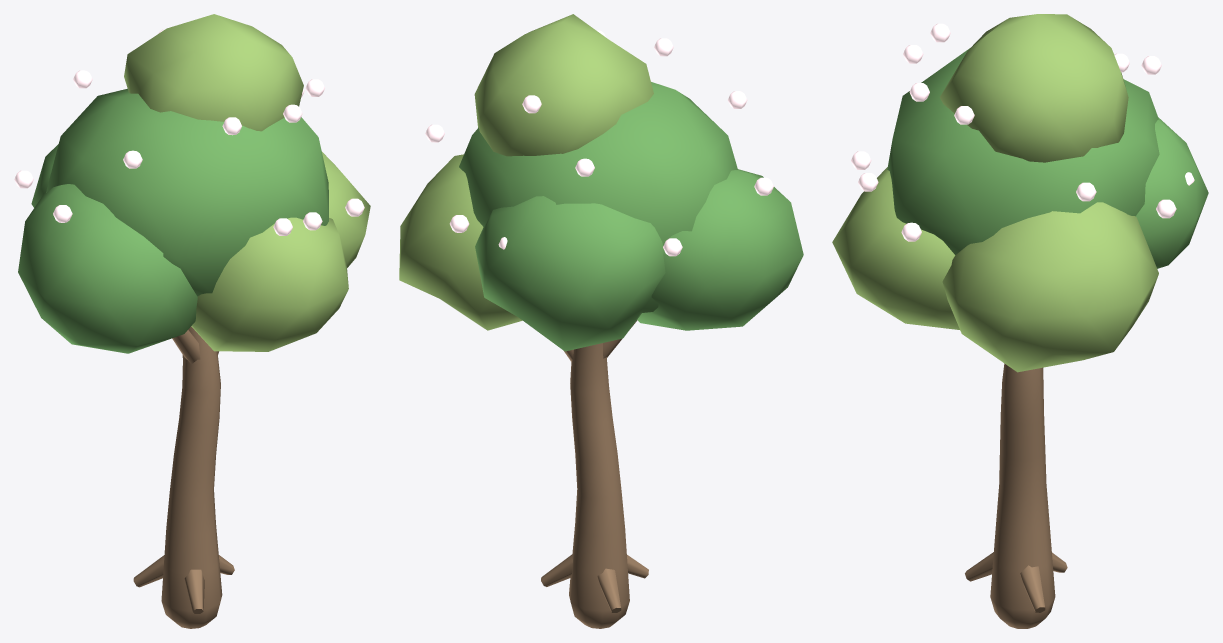
The model's file is tree.glb.
The picture shows the model from 3 angles, left to right: view 1: azimuth 30°, elevation 25°; view 2: azimuth 150°, elevation 25°; view 3: azimuth 270°, elevation 25°; orthographic projection. The views are drawn at different scales.
Parts seen in each view (by area): view 1: tree; view 2: tree; view 3: tree.
Boxes of the visible parts, left/top/right/bottom form: tree: left=14, top=14, right=370, bottom=628; tree: left=399, top=14, right=803, bottom=628; tree: left=832, top=14, right=1208, bottom=628.
Size of the model in its own units: 1.44 by 2.34 by 1.27.
